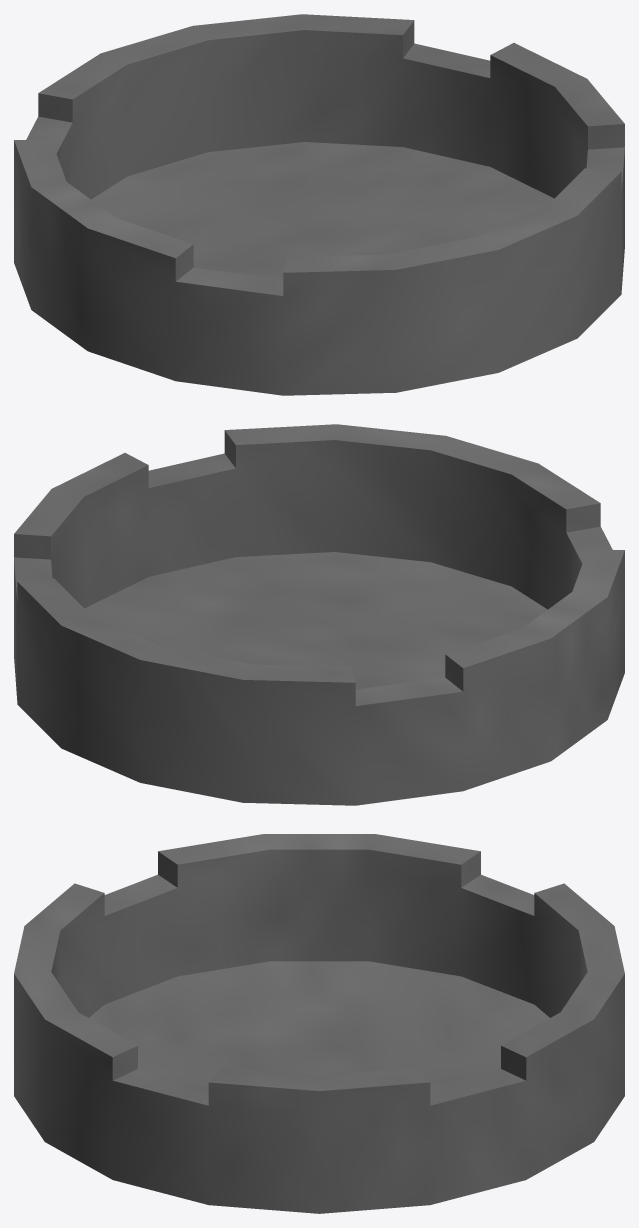
File: Cenicero.fbx
The picture shows the model from 3 angles, top to bottom: view 1: azimuth 30°, elevation 25°; view 2: azimuth 150°, elevation 25°; view 3: azimuth 270°, elevation 25°; orthographic projection.
Visible parts, largest first — view 1: Cenicero; view 2: Cenicero; view 3: Cenicero.
Boxes of the visible parts, box(x1,y1,x2,y2) form: Cenicero: box(14, 14, 624, 395); Cenicero: box(14, 424, 624, 805); Cenicero: box(14, 834, 624, 1213).
Size of the model in its own units: 15.36 by 3.42 by 15.43.
